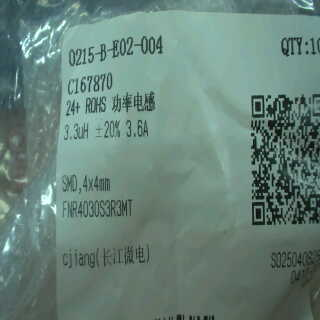3.3uH: (60, 119, 101, 147)
